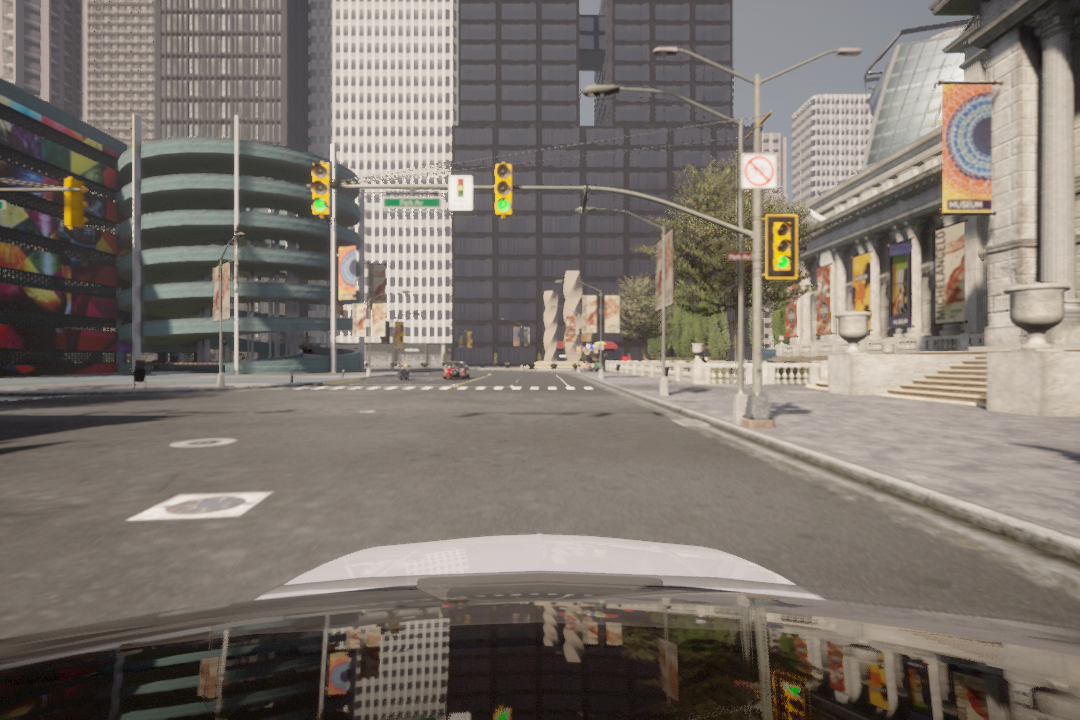TrafficLight: (767, 213, 800, 284), (490, 160, 514, 217), (311, 161, 331, 221)
TrafficSign: (738, 153, 785, 188)
walkside: (289, 382, 606, 394)
